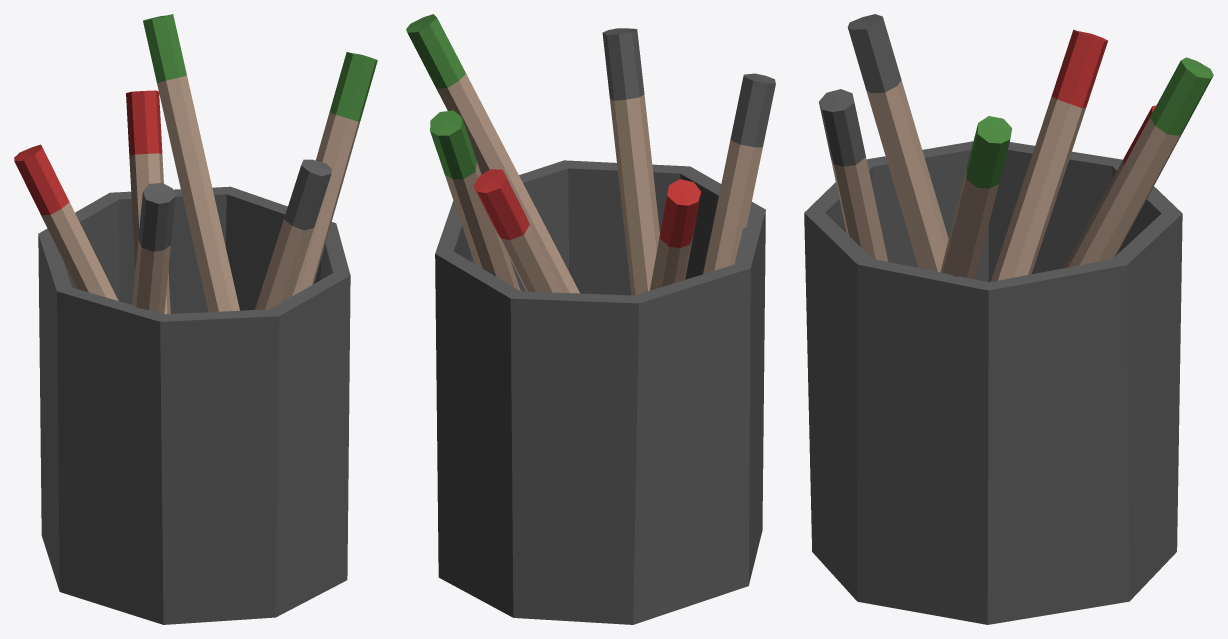
File: Vase_vwith_pans.fbx
3 views of the same model, side by side, from view 1: azimuth 30°, elevation 25°; view 2: azimuth 150°, elevation 25°; view 3: azimuth 270°, elevation 25° (orthographic). The views are drawn at different scales.
Parts seen in each view (by area): view 1: Vase_vwith_pans; view 2: Vase_vwith_pans; view 3: Vase_vwith_pans.
Boxes of the visible parts, x1,y1,x2,y2 form: Vase_vwith_pans: [14, 14, 377, 624]; Vase_vwith_pans: [406, 14, 775, 624]; Vase_vwith_pans: [804, 14, 1213, 624].
Size of the model in its own units: 15.62 by 15.47 by 21.97.
